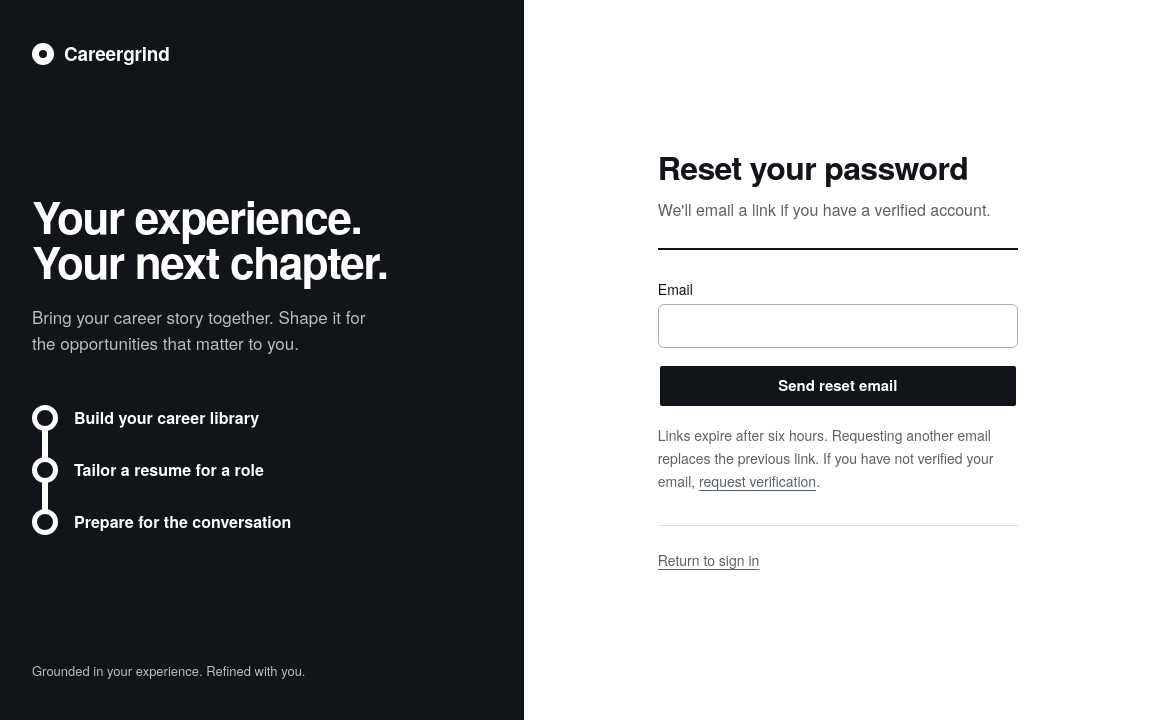
it: requests reset mail with CSRF and shows the generic next step
Type "user@example.com" into the field labelled "Email". click: [838, 326]
box: [658, 304, 1018, 348]
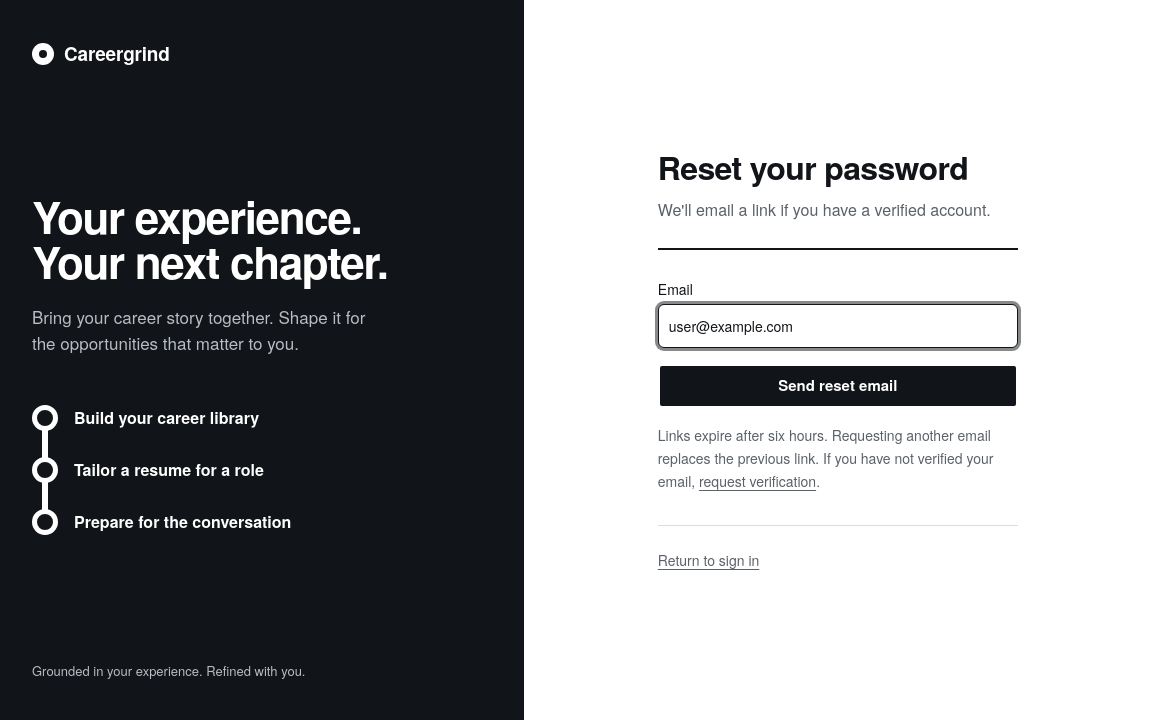
Click the button "Send reset email". click: [838, 386]
box: [658, 364, 1018, 408]
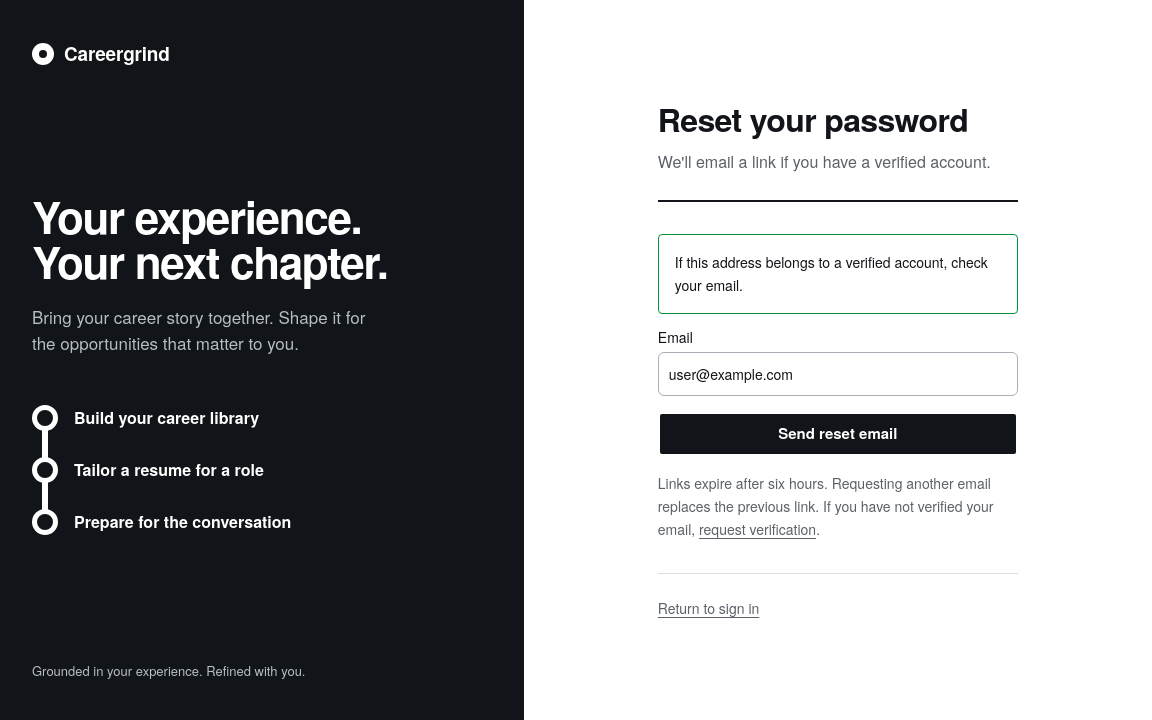
Check: the message shows "verified account", box [675, 252, 988, 295]
